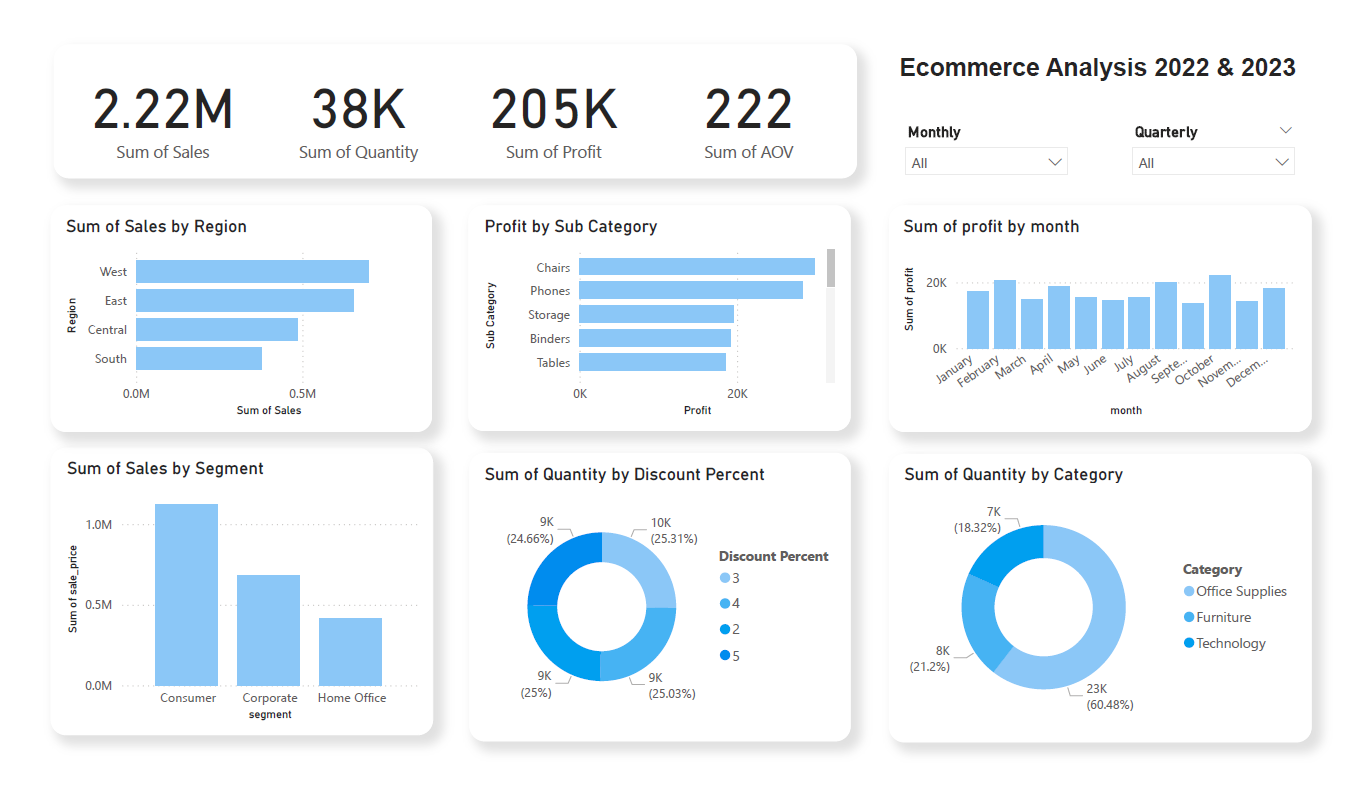

Layout of this report page (visuals, bound fields, positions):
{"tool":"powerbi","page":{"name":"Ecommerce Analysis","canvas":[1280,720],"ordinal":0},"visuals":[{"type":"shape","box":[29.1,19.3,779.1,130.1],"z":0},{"type":"shape","box":[26.4,414.2,370.9,279.8],"z":1000},{"type":"shape","box":[431.5,414.7,370.9,280],"z":2000},{"type":"shape","box":[839.3,415.5,410,280],"z":3000},{"type":"shape","box":[839.3,174.7,410,220],"z":4000},{"type":"shape","box":[26.4,174.7,370,220],"z":5000},{"type":"shape","box":[431.1,174.8,370.9,219.6],"z":6000},{"type":"hundredPercentStackedColumnChart","title":"Top 5 Highest Selling Products in Each Region","fields":{"Category":["Top_5_Sales.region"],"Y":["CountNonNull(Top_5_Sales.product_id)"],"Series":["Top_5_Sales.product_id"]},"box":[41,424.1,350,260],"z":7000},{"type":"card","fields":{"Values":["Sum(public sales_data.sale_price)"]},"box":[39.7,29.8,190.3,109],"z":8000,"group":"g1"},{"type":"clusteredBarChart","fields":{"Y":["Sum(public sales_data.sale_price)"],"Category":["public sales_data.region"]},"box":[36.4,184.7,350,200],"z":8000},{"type":"donutChart","fields":{"Y":["Sum(public sales_data.quantity)"],"Category":["public sales_data.category"]},"box":[849.2,425.4,390,260.2],"z":9000},{"type":"card","fields":{"Values":["Sum(public sales_data.quantity)"]},"box":[230,29.8,188.7,109],"z":10000,"group":"g1"},{"type":"donutChart","fields":{"Y":["Sum(public sales_data.quantity)"],"Category":["public sales_data.discount_percent"]},"box":[442,424.7,350,260],"z":10000},{"type":"clusteredBarChart","fields":{"Y":["Sum(public sales_data.profit)"],"Category":["public sales_data.sub_category"]},"box":[441.7,184.6,349.7,200.1],"z":11000},{"type":"card","fields":{"Values":["Sum(public sales_data.profit)"]},"box":[418.7,29.8,190.3,109],"z":12000,"group":"g1"},{"type":"clusteredColumnChart","fields":{"Category":["public sales_data.month"],"Y":["Sum(public sales_data.profit)"]},"box":[847.9,184.7,390.4,200.1],"z":12000},{"type":"slicer","fields":{"Values":["public sales_data.quarter"]},"box":[1058.9,85,190.3,69.9],"z":13000},{"type":"group","id":"g1","title":"Group 1","box":[39.7,29.8,758,109],"z":14000},{"type":"textbox","box":[839.3,19.3,409.9,50.4],"z":15000},{"type":"slicer","fields":{"Values":["public sales_data.order_date.Variation.Date Hierarchy.Month"]},"box":[839.3,85,190,70],"z":16000},{"type":"card","fields":{"Values":["public sales_data.AOV"]},"box":[607.4,29.8,190.3,109],"z":18000,"group":"g1"}]}

Visuals, with their boxes in screenshot pixels (x1, y1, x2, y2), scaled from the page's 1280x720 canvas onto the 1368x788 screenshot:
shape: pyautogui.locateOnScreen(31, 21, 864, 164)
shape: pyautogui.locateOnScreen(28, 453, 425, 760)
shape: pyautogui.locateOnScreen(461, 454, 858, 760)
shape: pyautogui.locateOnScreen(897, 455, 1335, 761)
shape: pyautogui.locateOnScreen(897, 191, 1335, 432)
shape: pyautogui.locateOnScreen(28, 191, 424, 432)
shape: pyautogui.locateOnScreen(461, 191, 857, 432)
"Top 5 Highest Selling Products in Each Region" hundredPercentStackedColumnChart: pyautogui.locateOnScreen(44, 464, 418, 749)
card - Sum(public sales_data.sale_price): pyautogui.locateOnScreen(42, 33, 246, 152)
clusteredBarChart - Sum(public sales_data.sale_price) x public sales_data.region: pyautogui.locateOnScreen(39, 202, 413, 421)
donutChart - Sum(public sales_data.quantity) x public sales_data.category: pyautogui.locateOnScreen(908, 466, 1324, 750)
card - Sum(public sales_data.quantity): pyautogui.locateOnScreen(246, 33, 447, 152)
donutChart - Sum(public sales_data.quantity) x public sales_data.discount_percent: pyautogui.locateOnScreen(472, 465, 846, 749)
clusteredBarChart - Sum(public sales_data.profit) x public sales_data.sub_category: pyautogui.locateOnScreen(472, 202, 846, 421)
card - Sum(public sales_data.profit): pyautogui.locateOnScreen(447, 33, 651, 152)
clusteredColumnChart - public sales_data.month x Sum(public sales_data.profit): pyautogui.locateOnScreen(906, 202, 1323, 421)
slicer - public sales_data.quarter: pyautogui.locateOnScreen(1132, 93, 1335, 170)
"Group 1" group: pyautogui.locateOnScreen(42, 33, 853, 152)
textbox: pyautogui.locateOnScreen(897, 21, 1335, 76)
slicer - public sales_data.order_date.Variation.Date Hierarchy.Month: pyautogui.locateOnScreen(897, 93, 1100, 170)
card - public sales_data.AOV: pyautogui.locateOnScreen(649, 33, 853, 152)
